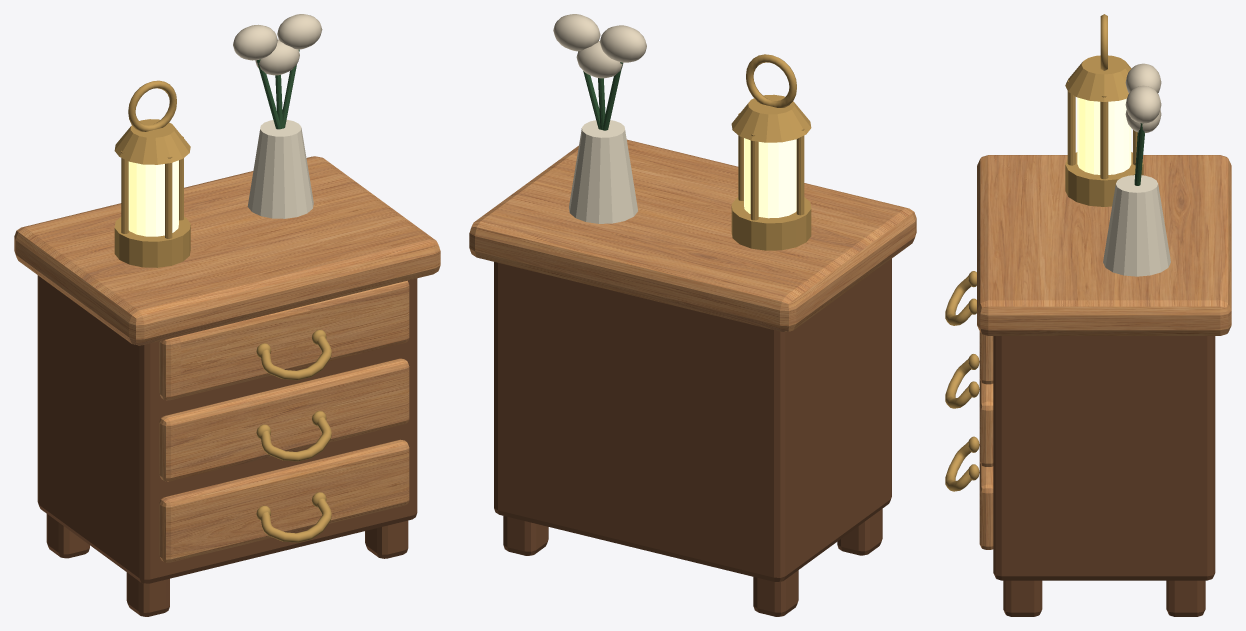
The picture shows the model from 3 angles, left to right: view 1: azimuth 30°, elevation 25°; view 2: azimuth 150°, elevation 25°; view 3: azimuth 270°, elevation 25°; orthographic projection. The views are drawn at different scales.
Visible parts, largest first — view 1: loft_oak, loft_wood_dark, loft_brass, loft_cream, loft_white, loft_lamp_glass, loft_leaf_dark; view 2: loft_wood_dark, loft_oak, loft_brass, loft_cream, loft_white, loft_lamp_glass, loft_leaf_dark; view 3: loft_wood_dark, loft_oak, loft_brass, loft_cream, loft_lamp_glass, loft_white, loft_leaf_dark.
Boxes of the visible parts, box(x1,y1,x2,y2) form: loft_oak: box(14, 156, 440, 562); loft_wood_dark: box(37, 275, 417, 616); loft_brass: box(114, 80, 331, 542); loft_cream: box(247, 120, 313, 218); loft_white: box(233, 14, 322, 75); loft_lamp_glass: box(128, 160, 178, 236); loft_leaf_dark: box(256, 49, 299, 129); loft_wood_dark: box(494, 258, 891, 616); loft_oak: box(469, 139, 916, 331); loft_brass: box(731, 54, 811, 250); loft_cream: box(569, 120, 637, 223); loft_white: box(553, 14, 646, 78); loft_lamp_glass: box(744, 138, 796, 218); loft_leaf_dark: box(583, 62, 622, 130); loft_wood_dark: box(993, 336, 1215, 616); loft_oak: box(977, 155, 1231, 549); loft_brass: box(945, 14, 1143, 491); loft_cream: box(1103, 175, 1170, 276); loft_lamp_glass: box(1077, 97, 1131, 174); loft_white: box(1125, 63, 1161, 132); loft_leaf_dark: box(1134, 123, 1144, 185).
Size of the model in its own units: 1.12 by 1.72 by 0.8773.
Materials: 7 (1 with a texture image).
